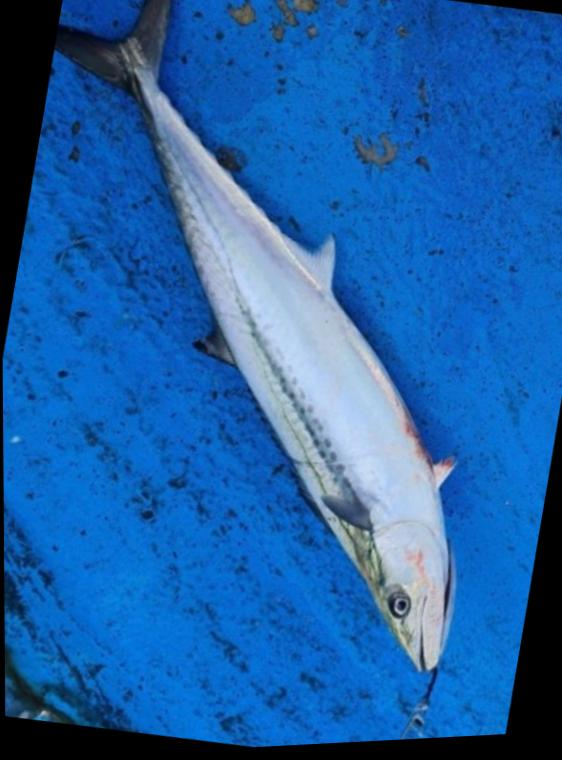fish: (54, 0, 457, 675)
